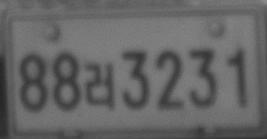1: (224, 48, 253, 108)
2: (156, 49, 183, 109)
3: (188, 48, 217, 107), (121, 51, 149, 108)
8: (52, 51, 81, 110), (18, 53, 46, 110)
러: (83, 61, 114, 110)
